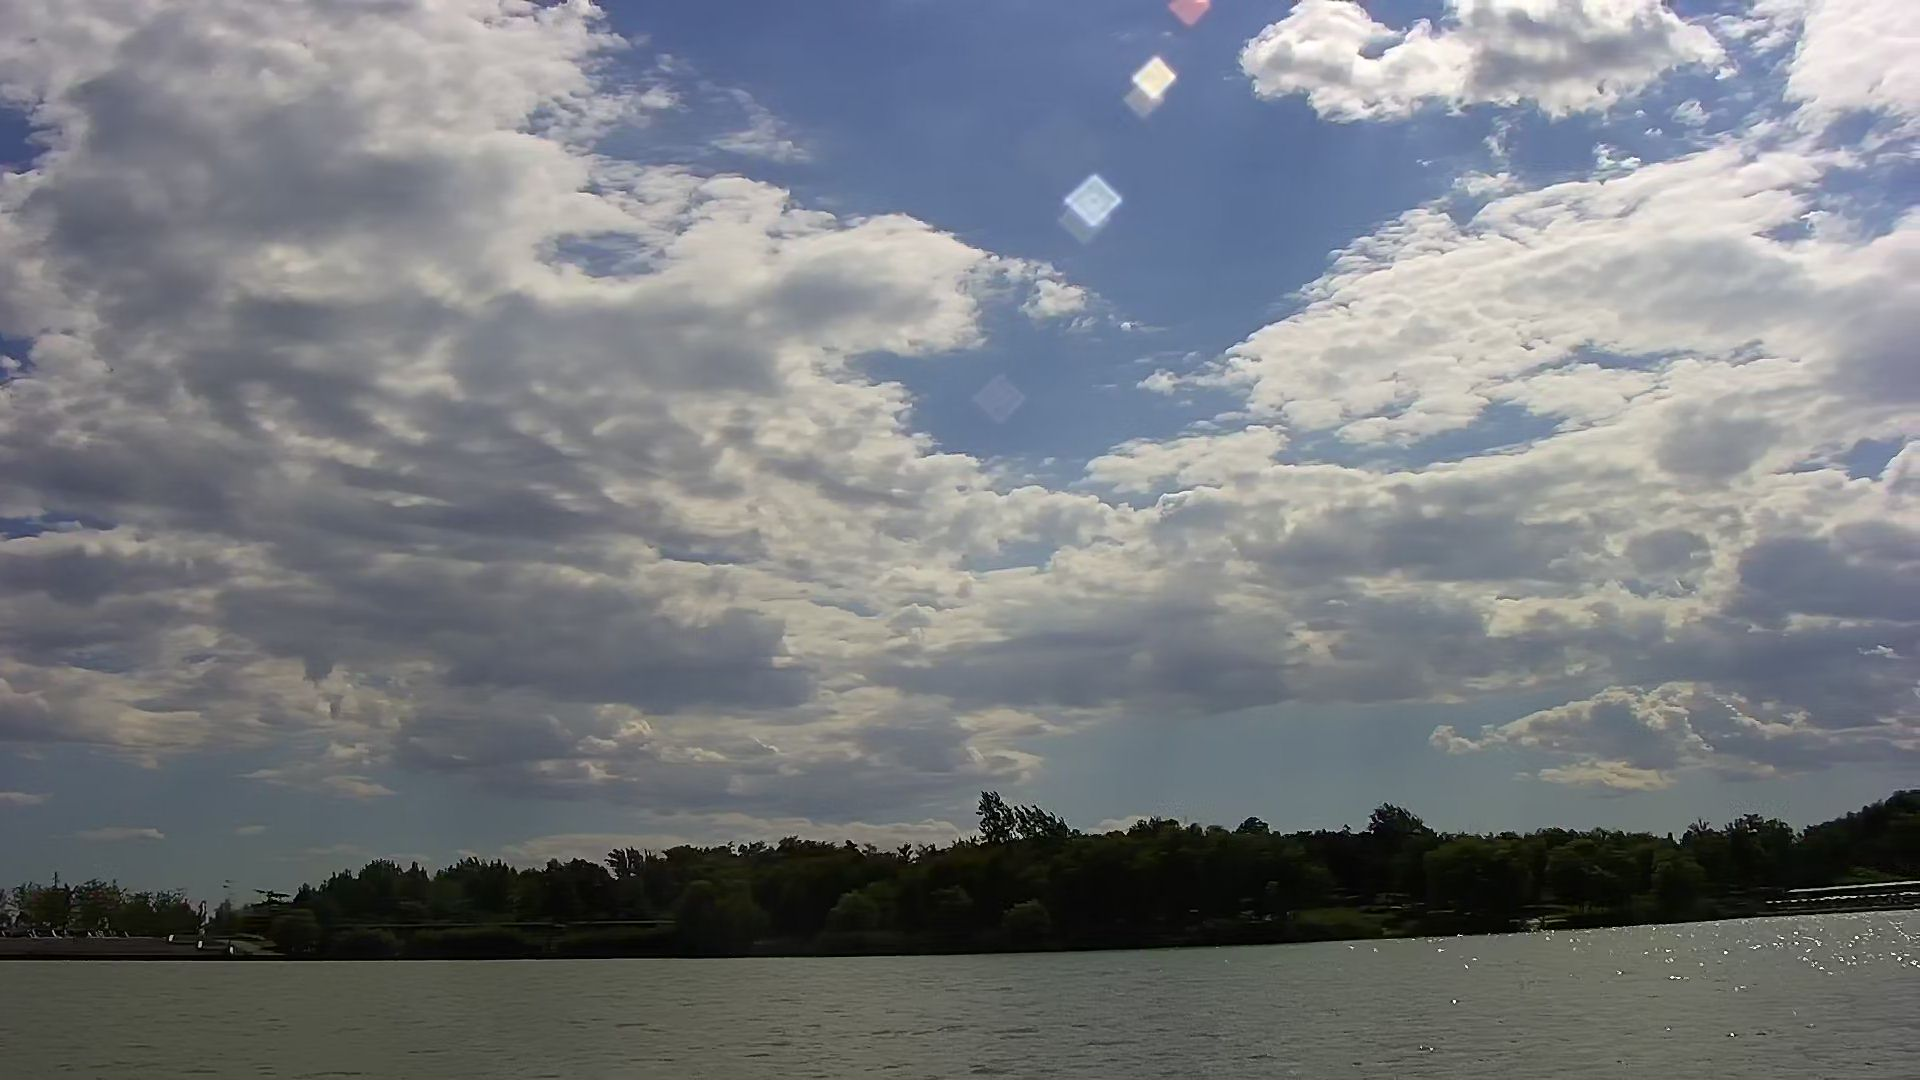harbor: (1, 916, 313, 963)
